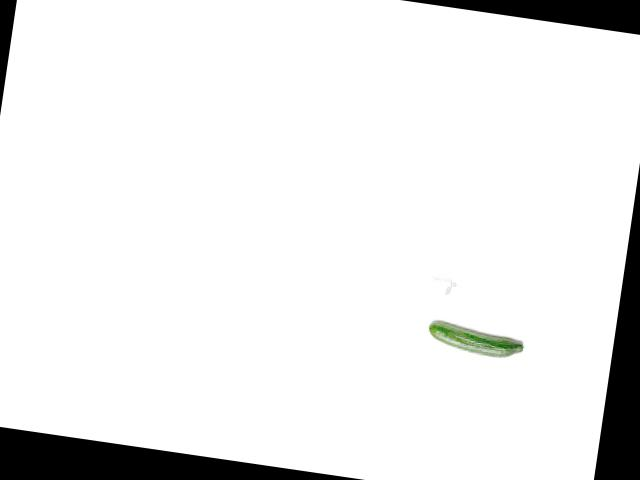cucumber: (425, 319, 525, 360)
